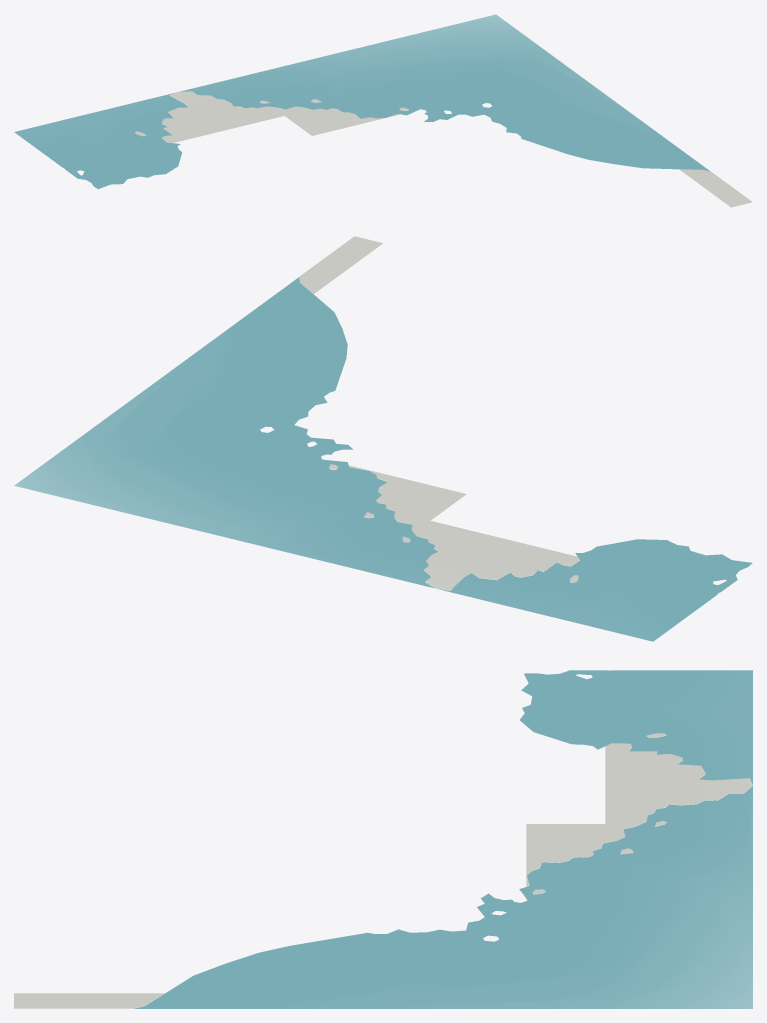
3 renders of one model, top to bottom at view 1: azimuth 30°, elevation 25°; view 2: azimuth 150°, elevation 25°; view 3: azimuth 270°, elevation 25°, orthographic. The views are drawn at different scales.
Visible parts, largest first — view 1: city; view 2: city; view 3: city.
Part boxes in pixels (left/top/right/bottom): city: left=14, top=14, right=752, bottom=207; city: left=14, top=236, right=752, bottom=641; city: left=14, top=670, right=752, bottom=1008.
Size of the model in its own units: 500 by 0.18 by 461.
